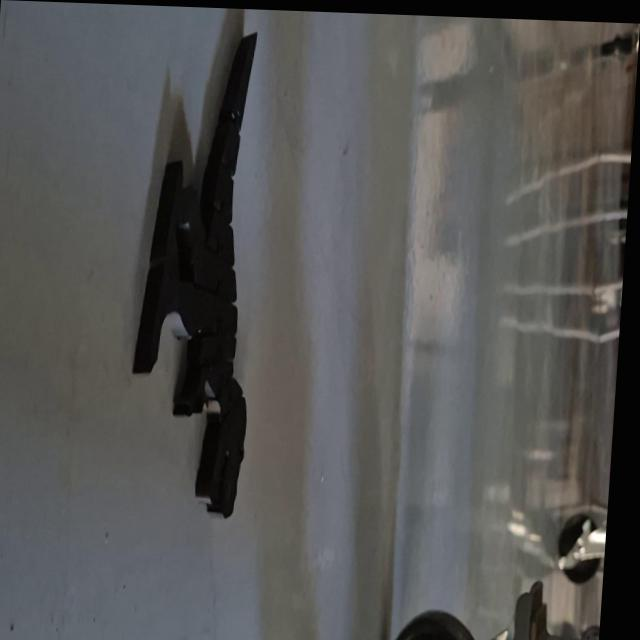dino: (120, 27, 273, 521)
